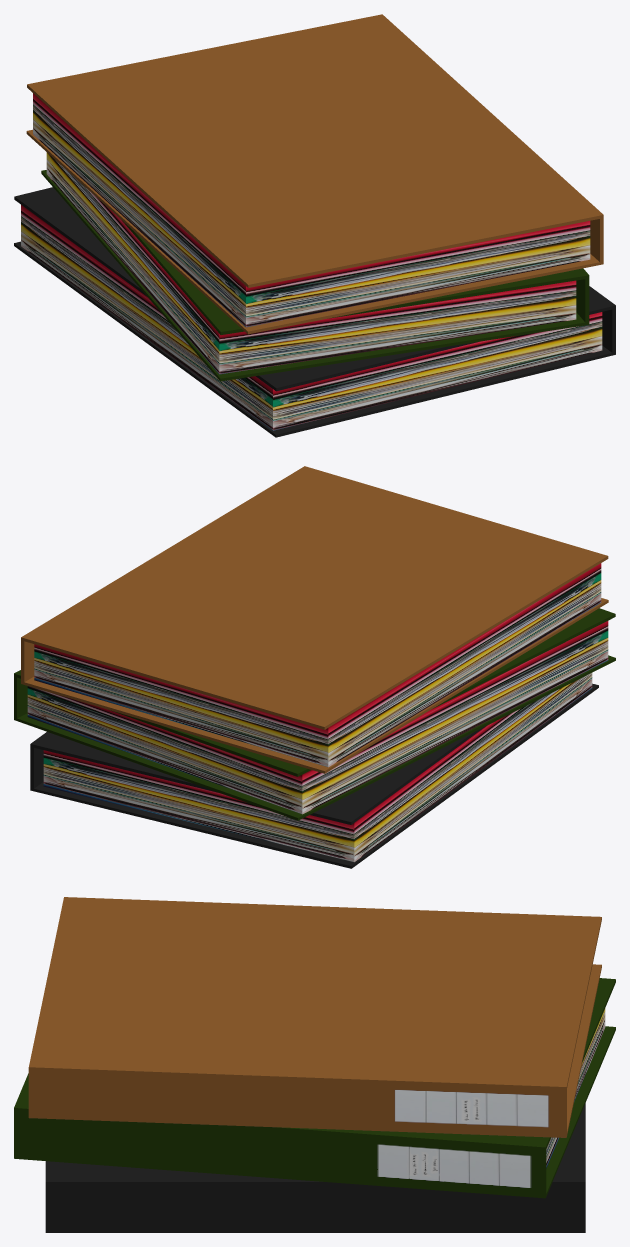
The model's file is Files 1.FBX.
3 renders of one model, top to bottom at view 1: azimuth 30°, elevation 25°; view 2: azimuth 150°, elevation 25°; view 3: azimuth 270°, elevation 25°, orthographic. The views are drawn at different scales.
Parts seen in each view (by area): view 1: Files 3, Files 1, Files 2; view 2: Files 3, Files 2, Files 1; view 3: Files 3, Files 2, Files 1.
Boxes of the visible parts, <box> form: Files 3: <box>26,14,603,334</box>; Files 1: <box>14,187,615,437</box>; Files 2: <box>41,152,589,381</box>; Files 3: <box>21,466,608,773</box>; Files 2: <box>14,608,615,820</box>; Files 1: <box>30,673,598,868</box>; Files 3: <box>28,897,601,1137</box>; Files 2: <box>14,978,615,1198</box>; Files 1: <box>45,1103,585,1232</box>.
Bounding box in the file's own units: 22.03 × 7.67 × 26.93.
Materials: 1 (1 with a texture image).
